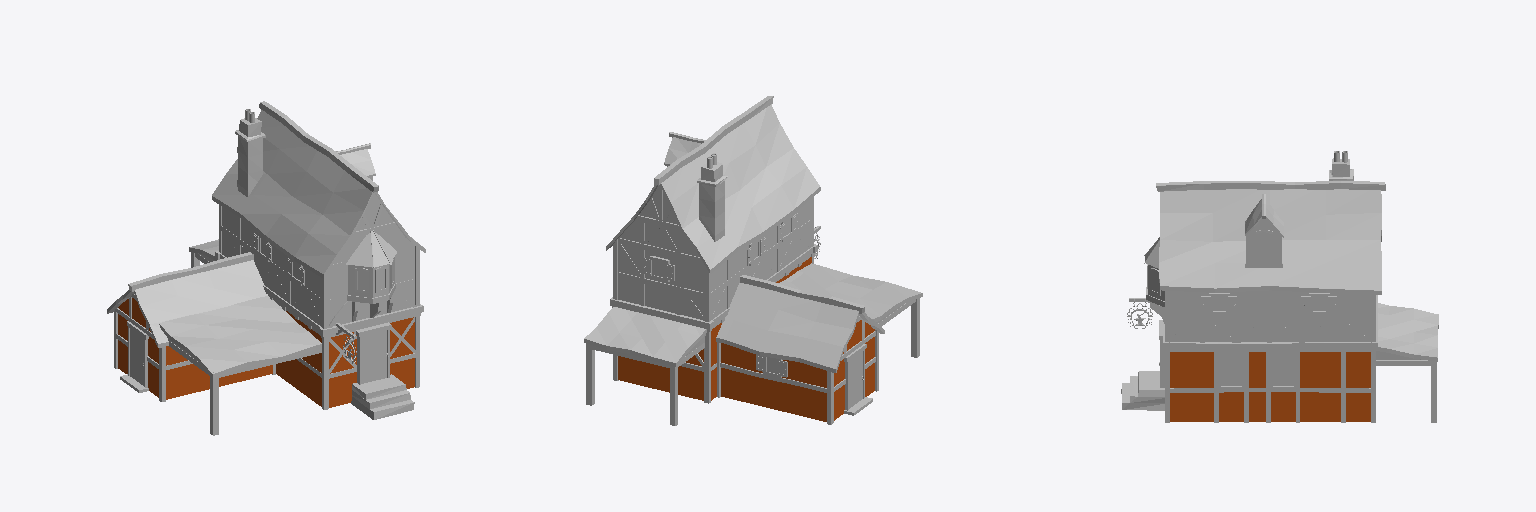
File: blacksmith.obj
3 views of the same model, side by side, from view 1: azimuth 30°, elevation 25°; view 2: azimuth 150°, elevation 25°; view 3: azimuth 270°, elevation 25° (orthographic).
Visible parts, largest first — view 1: Roof_Cube.006, WoodenBeams_Cube.408, Level1_Cube.004, Level2_Cube.005, RoofFrame_Cube.441, Steps_Cube.014, Chimney_Cube.418, DoorFront_Cube.012, WoodenBeamsExtraFront_Cube.026, WindowFrames_Cube.434, DoorSide_Cube.020, DoorFrontFrame_Cube.013; view 2: Roof_Cube.006, WoodenBeams_Cube.408, Level1_Cube.004, Level2_Cube.005, RoofFrame_Cube.441, Chimney_Cube.418, WoodenBeamsExtraBack_Cube.039, WindowFrames_Cube.434, WoodenBeamsExtraFront_Cube.026, DoorSide_Cube.020; view 3: Roof_Cube.006, Level1_Cube.004, WoodenBeams_Cube.408, Level2_Cube.005, RoofFrame_Cube.441, WindowFrames_Cube.434, Steps_Cube.014, WoodenBeamsExtraBack_Cube.039, Level3_Cube.440, Window2Level1_Cube.043, Window1Level1_Cube.035.
Part boxes in pixels (left/top/right/bottom): Roof_Cube.006: left=135, top=110, right=422, bottom=373; WoodenBeams_Cube.408: left=114, top=177, right=423, bottom=409; Level1_Cube.004: left=118, top=298, right=414, bottom=407; Level2_Cube.005: left=222, top=193, right=414, bottom=326; RoofFrame_Cube.441: left=107, top=101, right=425, bottom=377; Steps_Cube.014: left=351, top=374, right=414, bottom=419; Chimney_Cube.418: left=235, top=118, right=265, bottom=196; DoorFront_Cube.012: left=362, top=330, right=386, bottom=383; WoodenBeamsExtraFront_Cube.026: left=167, top=337, right=321, bottom=435; WindowFrames_Cube.434: left=253, top=233, right=394, bottom=292; DoorSide_Cube.020: left=130, top=329, right=143, bottom=385; DoorFrontFrame_Cube.013: left=356, top=322, right=391, bottom=384; Roof_Cube.006: left=584, top=104, right=920, bottom=368; WoodenBeams_Cube.408: left=610, top=166, right=878, bottom=424; Level1_Cube.004: left=618, top=257, right=874, bottom=421; Level2_Cube.005: left=618, top=186, right=811, bottom=319; RoofFrame_Cube.441: left=584, top=96, right=922, bottom=372; Chimney_Cube.418: left=697, top=162, right=727, bottom=241; WoodenBeamsExtraBack_Cube.039: left=586, top=334, right=705, bottom=425; WindowFrames_Cube.434: left=643, top=213, right=797, bottom=378; WoodenBeamsExtraFront_Cube.026: left=876, top=298, right=919, bottom=357; DoorSide_Cube.020: left=849, top=351, right=862, bottom=408; Roof_Cube.006: left=1145, top=189, right=1438, bottom=357; Level1_Cube.004: left=1170, top=352, right=1370, bottom=421; WoodenBeams_Cube.408: left=1144, top=219, right=1377, bottom=422; Level2_Cube.005: left=1170, top=291, right=1370, bottom=341; RoofFrame_Cube.441: left=1156, top=181, right=1438, bottom=361; WindowFrames_Cube.434: left=1147, top=230, right=1336, bottom=387; Steps_Cube.014: left=1121, top=371, right=1164, bottom=410; WoodenBeamsExtraBack_Cube.039: left=1376, top=351, right=1436, bottom=422; Level3_Cube.440: left=1249, top=219, right=1279, bottom=263; Window2Level1_Cube.043: left=1273, top=353, right=1293, bottom=385; Window1Level1_Cube.035: left=1221, top=353, right=1241, bottom=385.
Bounding box in the file's own units: 9.83 × 9.81 × 12.14.